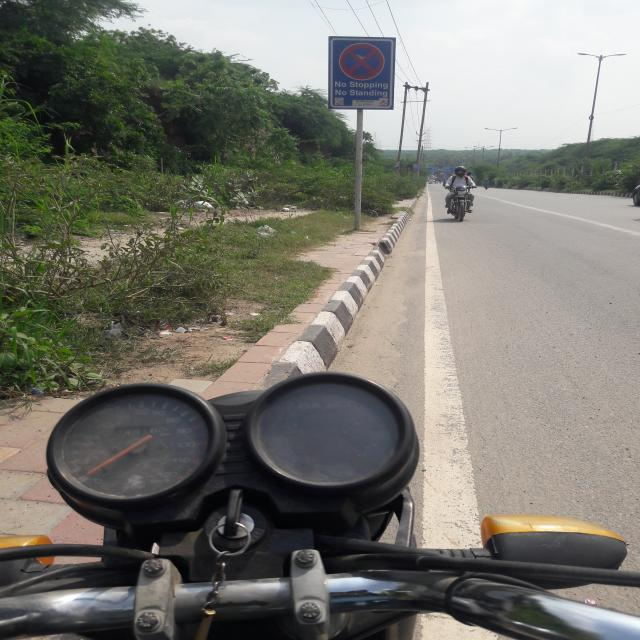no stopping or standing: (340, 43, 385, 81)
